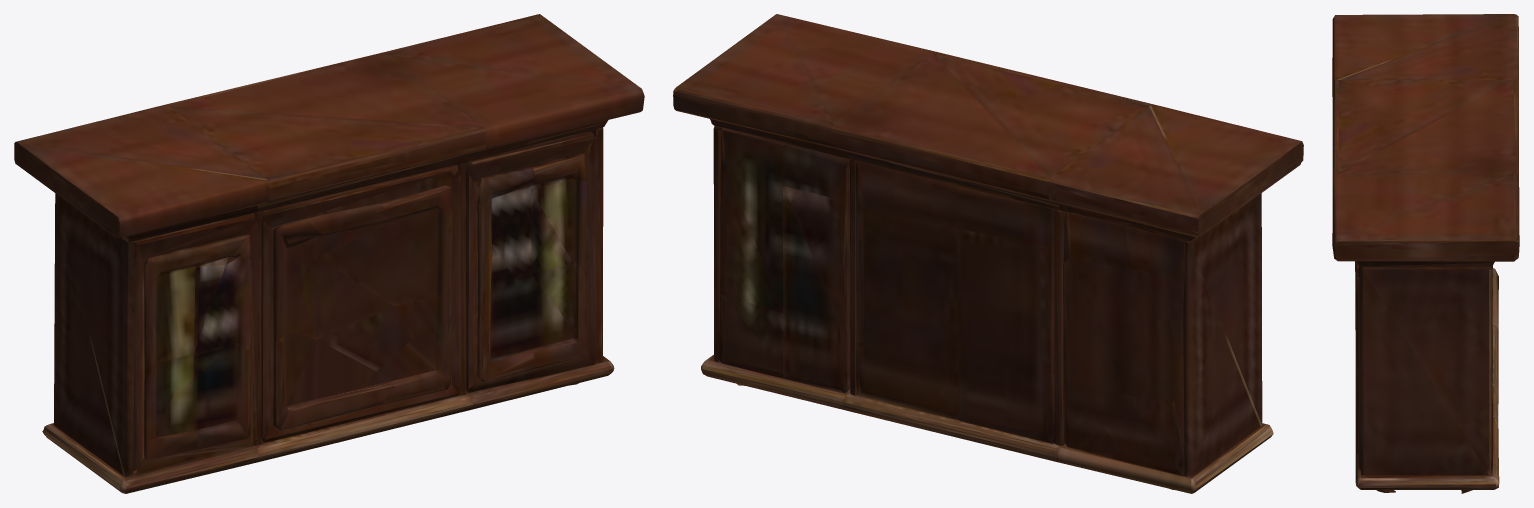
The model's file is bar-counter.lod1.glb.
The picture shows the model from 3 angles, left to right: view 1: azimuth 30°, elevation 25°; view 2: azimuth 150°, elevation 25°; view 3: azimuth 270°, elevation 25°; orthographic projection. The views are drawn at different scales.
Size of the model in its own units: 2 by 1.1 by 0.6999.
1 material, 1 textured.
